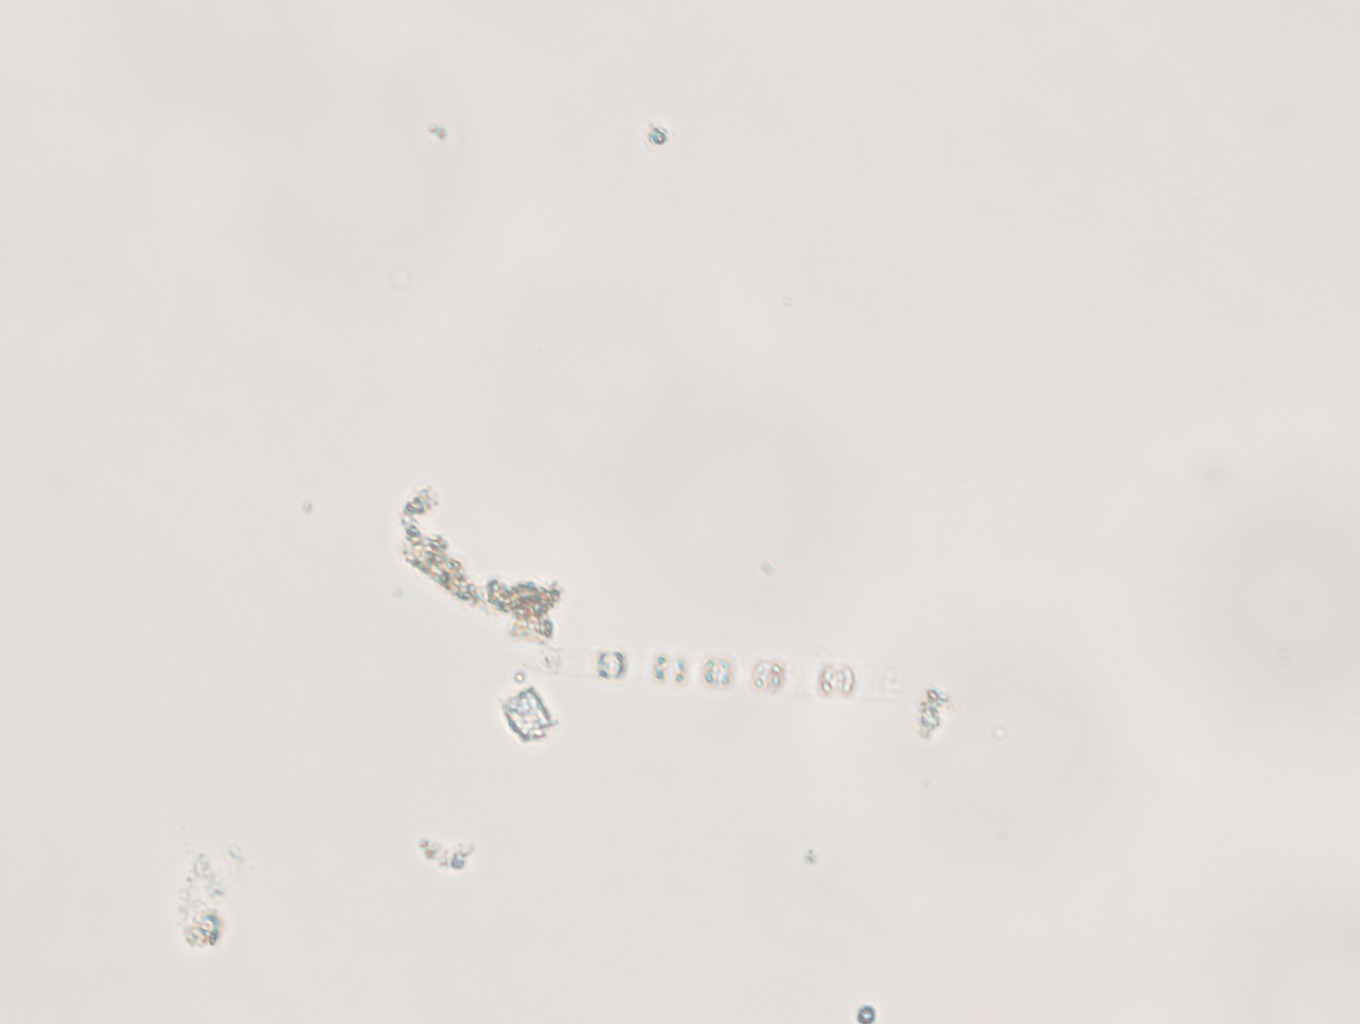skeletonema: (520, 640, 902, 705)
